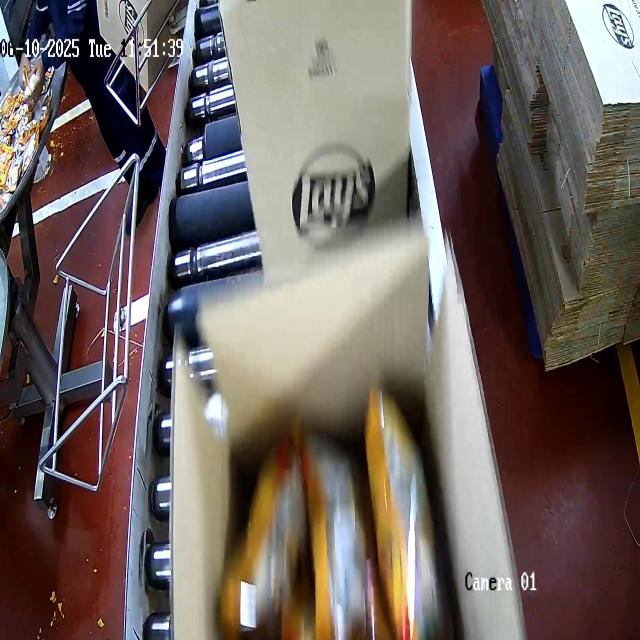FRENCH_CHEESE: (220, 421, 438, 629)
